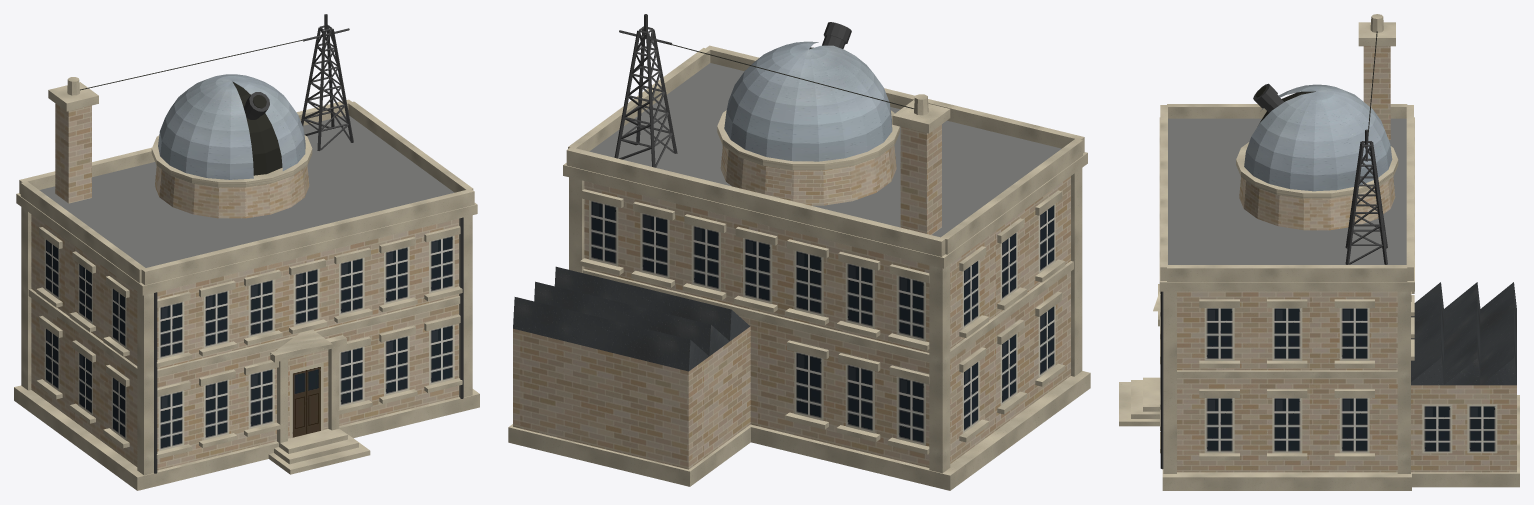
Rendered from researchCenter.glb.
3 views of the same model, side by side, from view 1: azimuth 30°, elevation 25°; view 2: azimuth 150°, elevation 25°; view 3: azimuth 270°, elevation 25° (orthographic). The views are drawn at different scales.
Visible parts, largest first — view 1: fenetre, toit_terrasse, corps_rdc, corps_etage, acrotere, appuis_linteaux, coupole, socle, corps_chaine, corps_corniche, tambour, corps_bandeau (+10 smaller); view 2: fenetre, atelier, corps_rdc, corps_etage, toit_terrasse, acrotere, coupole, sheds, appuis_linteaux, corps_chaine, socle, corps_corniche (+7 smaller); view 3: toit_terrasse, corps_rdc, coupole, corps_etage, fenetre, sheds, acrotere, atelier, corps_chaine, socle, appuis_linteaux, tambour (+11 smaller).
Boxes of the visible parts, <box> form: fenetre: <box>44,235,454,451</box>; toit_terrasse: <box>39,115,454,267</box>; corps_rdc: <box>31,298,458,470</box>; corps_etage: <box>31,214,458,369</box>; acrotere: <box>19,99,474,285</box>; appuis_linteaux: <box>36,226,462,458</box>; coupole: <box>158,74,305,179</box>; socle: <box>14,385,479,490</box>; corps_chaine: <box>21,207,472,475</box>; corps_corniche: <box>16,193,477,295</box>; tambour: <box>155,166,309,218</box>; corps_bandeau: <box>28,289,460,377</box>; fenetre: <box>589,200,1055,445</box>; atelier: <box>513,326,750,469</box>; corps_rdc: <box>739,271,1070,467</box>; corps_etage: <box>584,176,1070,352</box>; toit_terrasse: <box>589,63,1061,237</box>; acrotere: <box>566,45,1084,256</box>; coupole: <box>724,41,892,161</box>; sheds: <box>513,266,750,371</box>; appuis_linteaux: <box>580,189,1065,454</box>; corps_chaine: <box>569,168,1082,473</box>; socle: <box>751,371,1090,490</box>; corps_corniche: <box>563,152,1087,268</box>; toit_terrasse: <box>1168,118,1406,264</box>; corps_rdc: <box>1177,378,1397,472</box>; coupole: <box>1244,84,1392,191</box>; corps_etage: <box>1177,291,1397,370</box>; fenetre: <box>1204,308,1369,453</box>; sheds: <box>1411,282,1516,385</box>; acrotere: <box>1160,104,1413,281</box>; atelier: <box>1411,385,1516,472</box>; corps_chaine: <box>1163,291,1410,473</box>; socle: <box>1162,469,1411,490</box>; appuis_linteaux: <box>1160,291,1414,460</box>; tambour: <box>1239,177,1395,230</box>.
Size of the model in its own units: 2.66 by 2.46 by 2.67.
Materials: 10 (6 with a texture image).
